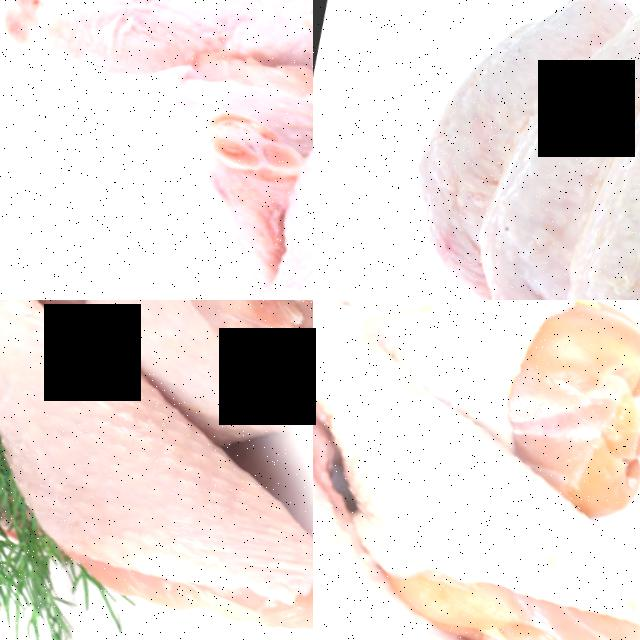chicken thigh: (313, 300, 640, 640), (0, 300, 313, 640), (313, 351, 586, 640), (57, 300, 313, 446), (196, 11, 313, 300)
chicken wing: (338, 0, 640, 300), (510, 0, 640, 300)
